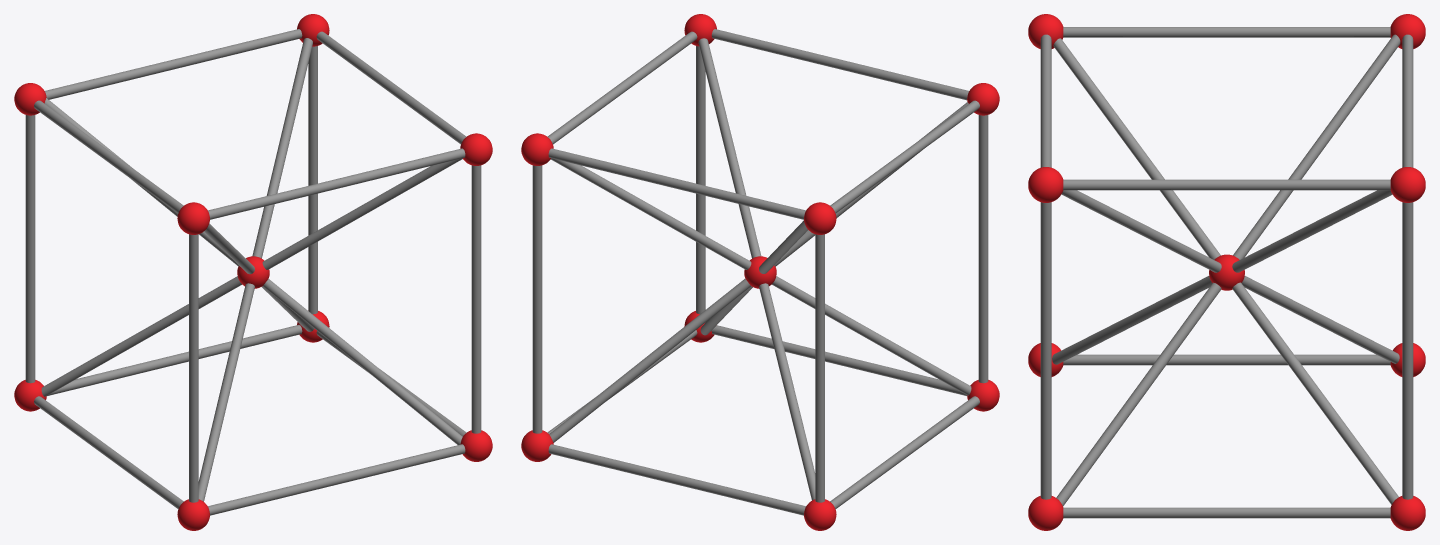
The picture shows the model from 3 angles, left to right: view 1: azimuth 30°, elevation 25°; view 2: azimuth 150°, elevation 25°; view 3: azimuth 270°, elevation 25°; orthographic projection. The views are drawn at different scales.
Visible parts, largest first — view 1: Цилиндр_Node (×15), Сферы_Node (×8); view 2: Цилиндр_Node (×15), Сферы_Node (×8); view 3: Цилиндр_Node (×12), Сферы_Node (×9).
Part boxes in pixels (box(x1,y1,x2,y2)): Цилиндр_Node (×15): box(25, 29, 481, 515); Сферы_Node (×8): box(14, 14, 492, 530); Цилиндр_Node (×15): box(532, 29, 988, 515); Сферы_Node (×8): box(521, 14, 999, 530); Цилиндр_Node (×12): box(1040, 27, 1413, 518); Сферы_Node (×9): box(1028, 14, 1425, 530).
Size of the model in its own units: 4.33 by 4.33 by 4.33.
17 materials, 1 textured.
